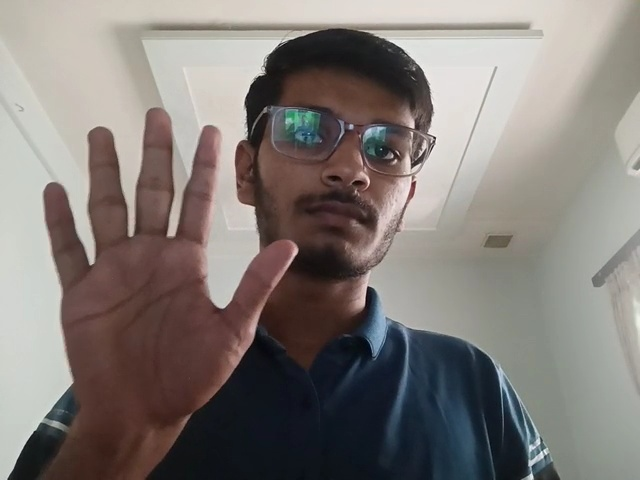Hello: (23, 102, 303, 443)
